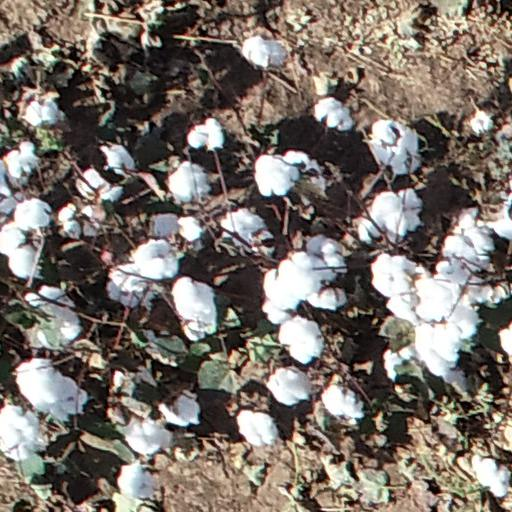Boll: (17, 359, 84, 418), (261, 250, 315, 312), (32, 290, 81, 344), (1, 403, 44, 464), (173, 277, 215, 339), (369, 122, 418, 170), (417, 320, 459, 373), (116, 413, 169, 455), (447, 218, 492, 265), (2, 223, 41, 275), (280, 315, 323, 362), (376, 192, 421, 235), (130, 240, 175, 282), (254, 156, 300, 196), (373, 252, 415, 295), (442, 258, 485, 300), (108, 262, 149, 306), (224, 211, 270, 249), (265, 365, 309, 404), (165, 161, 207, 201), (308, 234, 348, 275), (237, 409, 279, 445), (417, 278, 449, 323), (441, 299, 479, 336), (117, 462, 155, 499), (161, 392, 201, 427), (324, 386, 363, 420), (82, 171, 121, 204), (480, 456, 511, 497), (244, 36, 286, 66), (188, 118, 226, 151), (14, 199, 54, 230), (315, 97, 352, 130), (5, 143, 38, 179), (101, 142, 135, 176), (385, 347, 417, 379), (312, 286, 349, 312), (25, 100, 58, 126), (392, 294, 421, 323), (290, 151, 321, 175), (180, 216, 205, 245), (59, 204, 82, 235), (358, 217, 382, 241)
